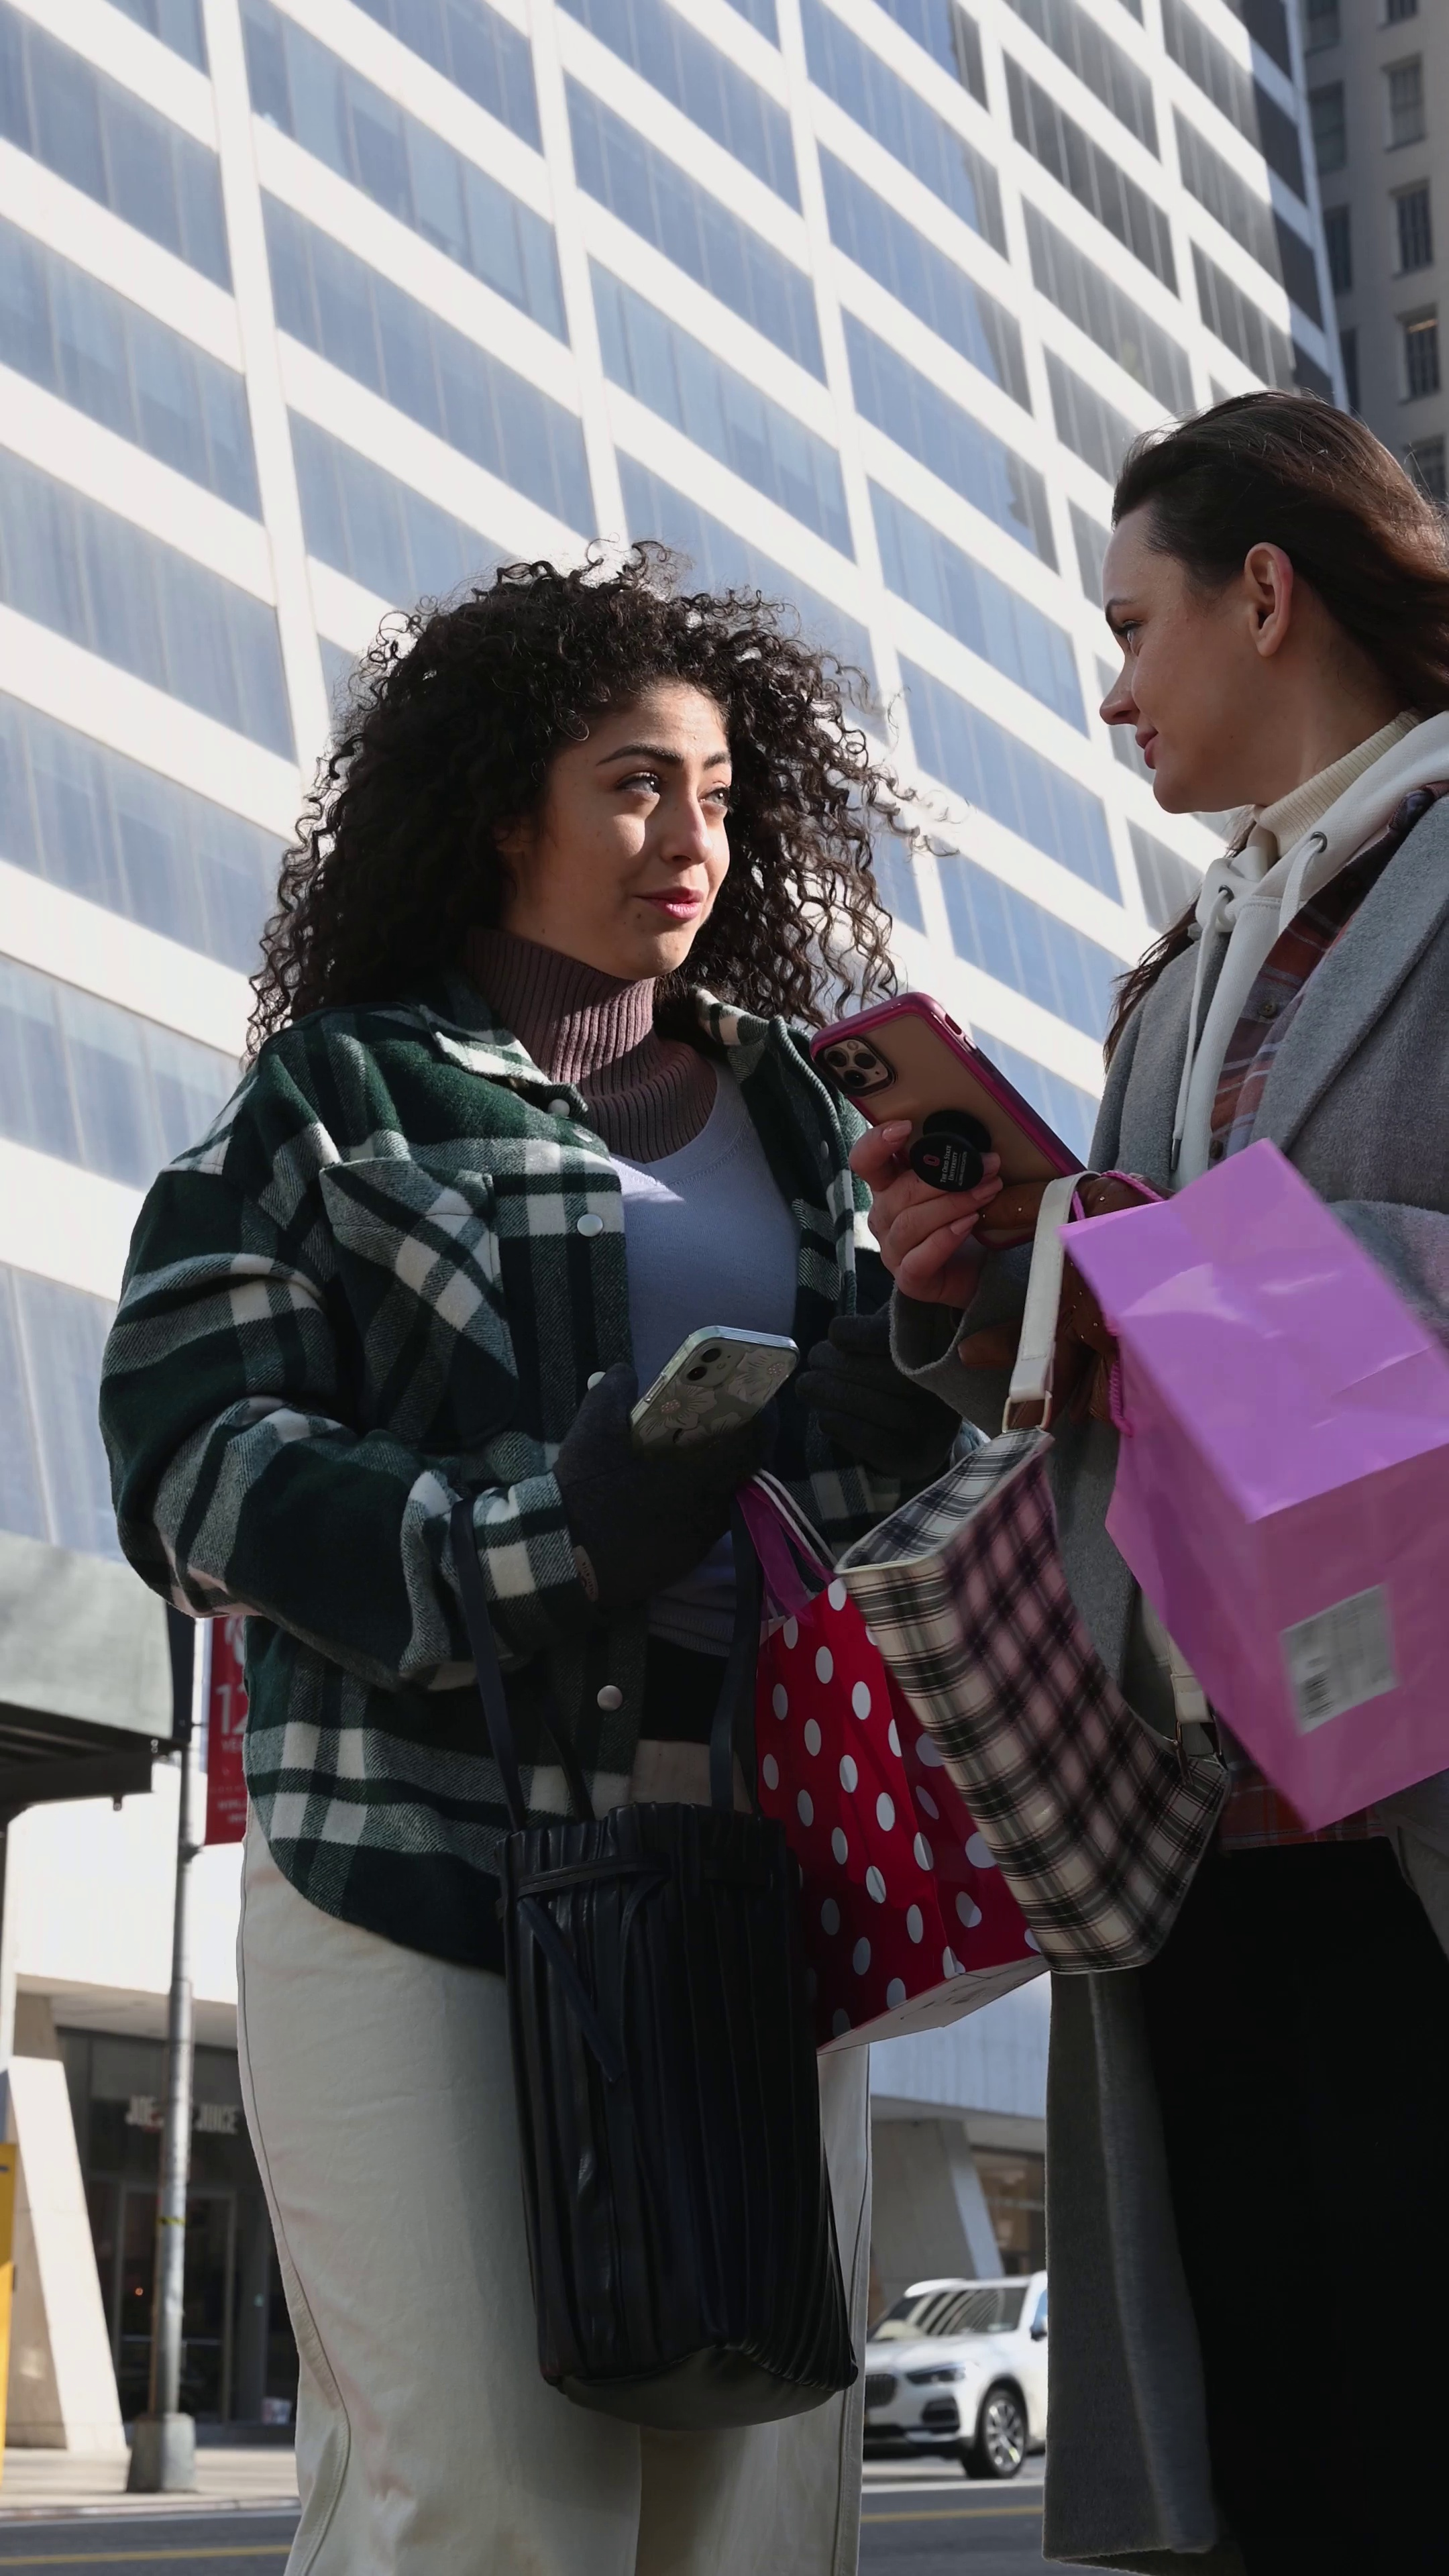phone: (798, 985, 1077, 1215), (621, 1315, 812, 1460)
